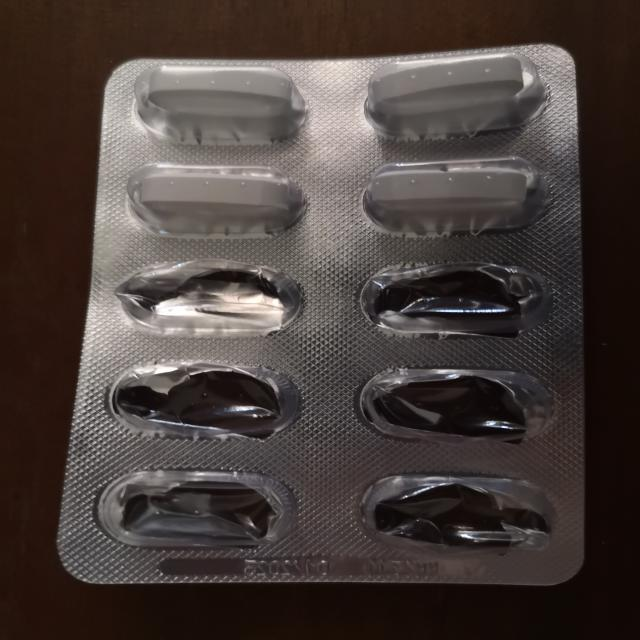Empty: (348, 461, 564, 555), (344, 356, 557, 450), (93, 356, 310, 448), (84, 464, 303, 555), (346, 255, 557, 347), (108, 253, 316, 345)
Pill: (346, 154, 570, 240), (357, 50, 555, 145), (122, 58, 322, 150), (111, 155, 322, 242)
